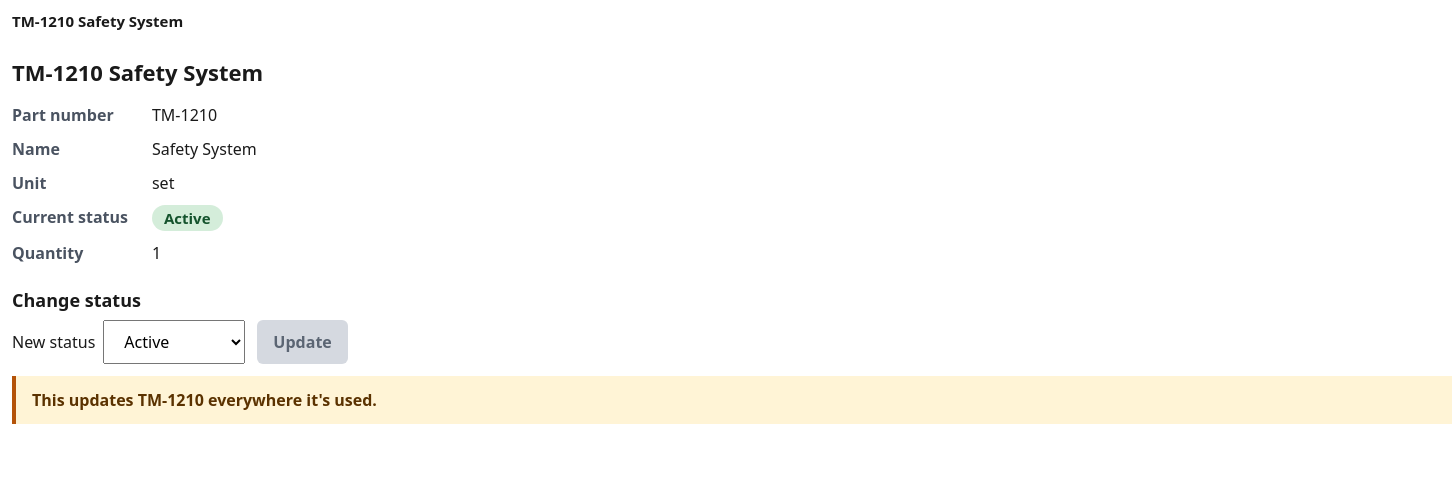
Test case: PartDetails status update › sends the lowercase status and shows the success message
Select "Deprecated" in the dropdown labelled "New status" at (174, 342), box [103, 320, 245, 364]
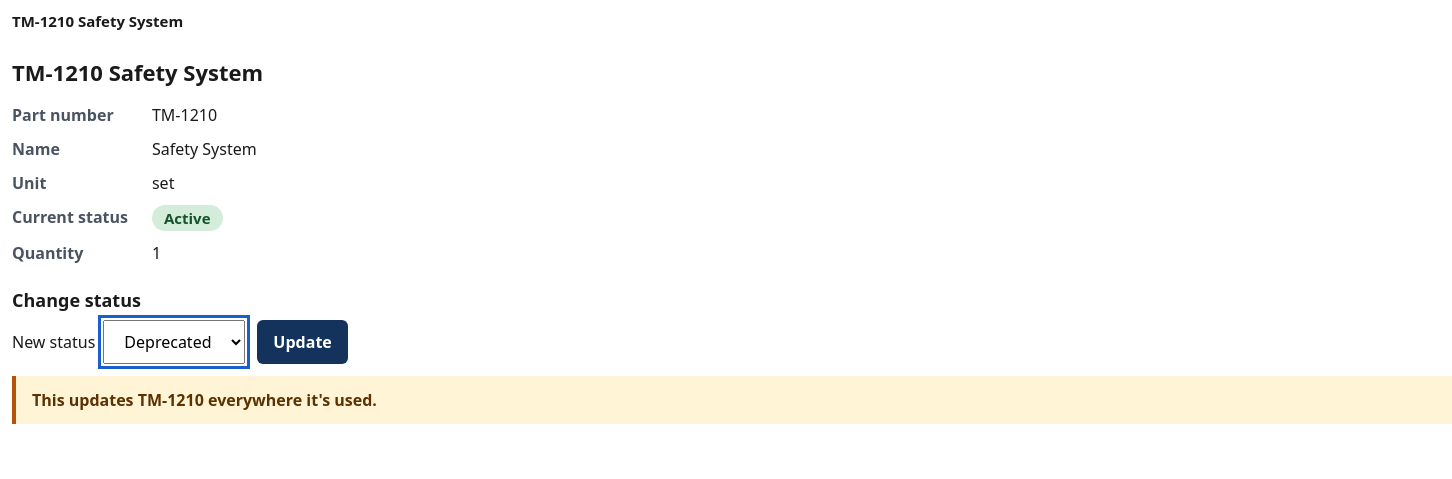
Click the button "Update" at (303, 342), box [257, 320, 348, 364]
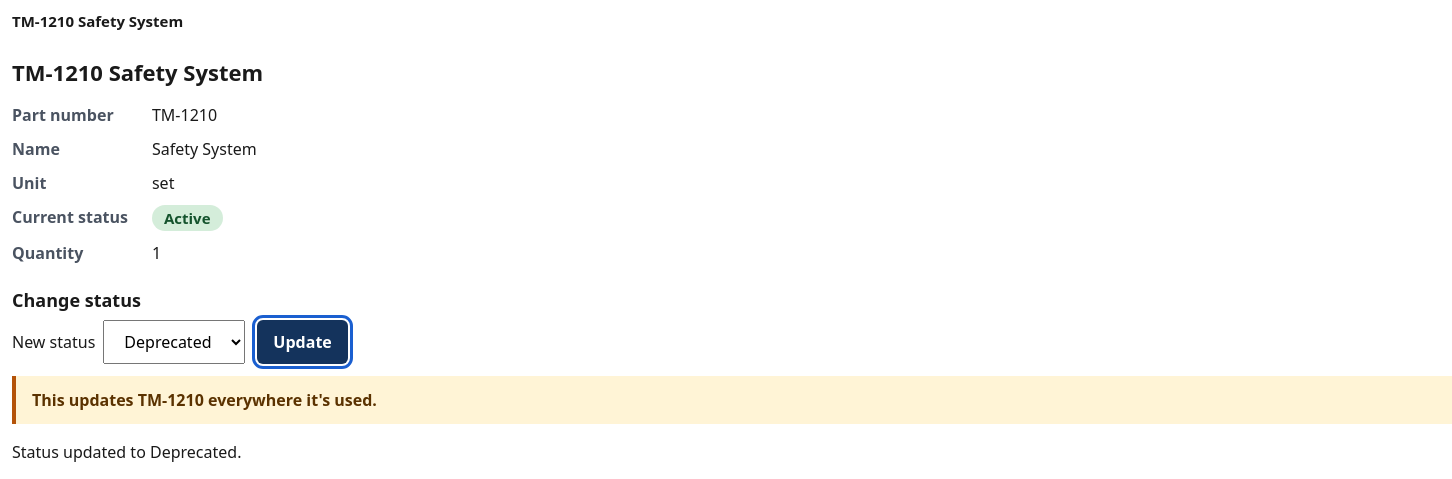
Expected: the text "Status updated to Deprecated." is shown, [12, 440, 241, 462]
